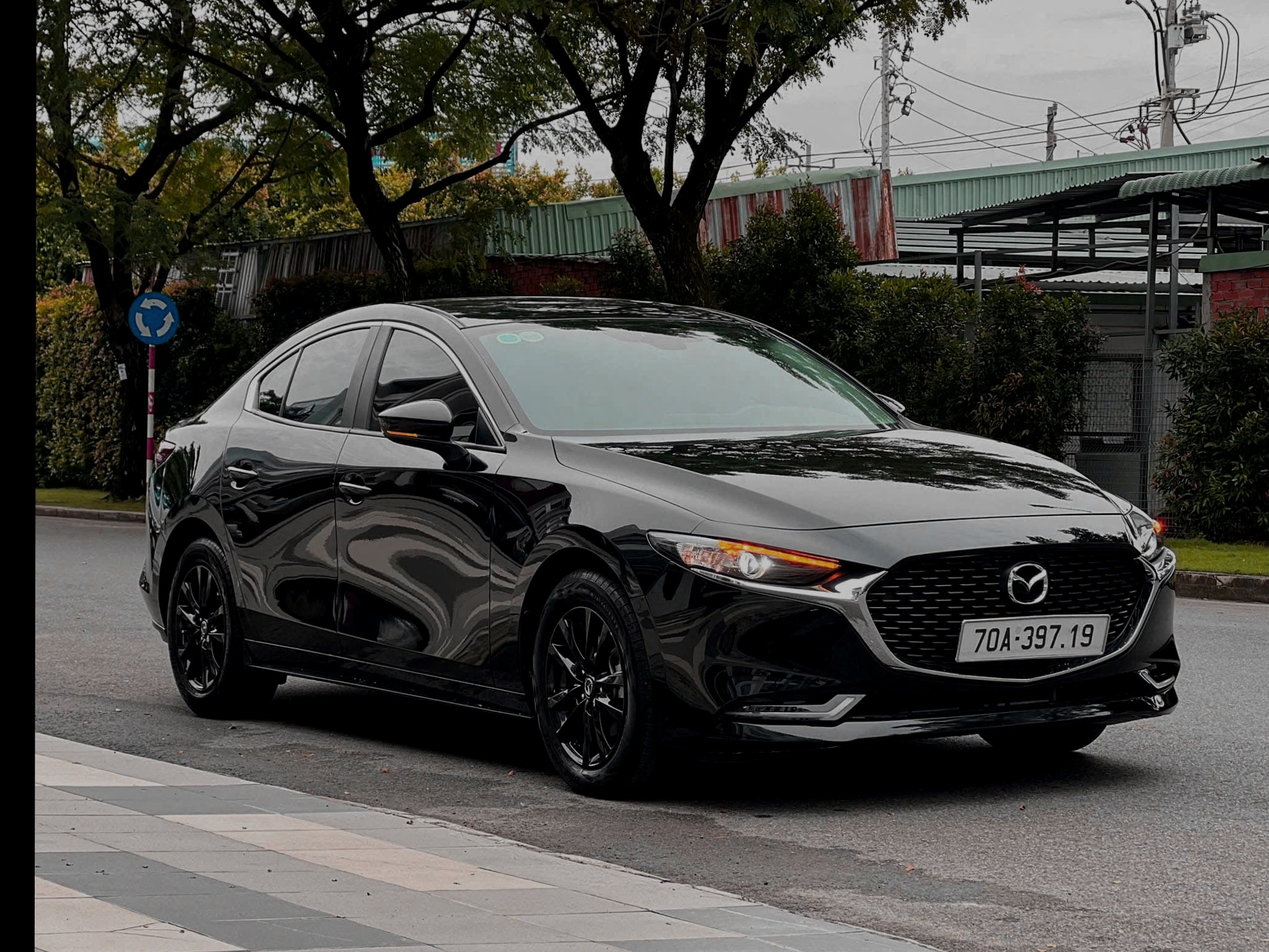Bien-so: (921, 622, 1084, 661)
